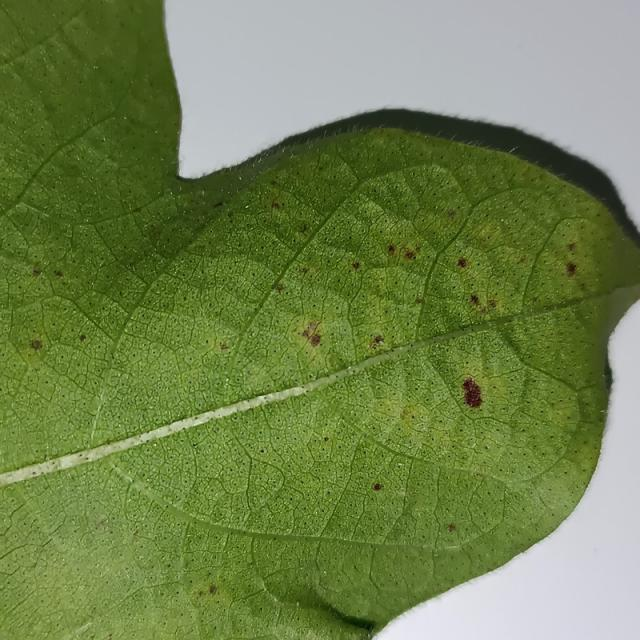Bacterial_Blight: (11, 274, 120, 378), (514, 303, 600, 388), (259, 177, 335, 247), (523, 376, 586, 451), (343, 464, 408, 533), (354, 295, 410, 355), (478, 244, 538, 293), (458, 474, 504, 531), (376, 394, 431, 438), (379, 233, 426, 269), (292, 318, 328, 355), (450, 376, 487, 410), (244, 482, 277, 516), (200, 329, 236, 358), (475, 222, 503, 249), (468, 291, 499, 315), (24, 331, 47, 359), (195, 582, 218, 598), (31, 263, 45, 277), (565, 262, 578, 275), (149, 226, 163, 238), (272, 283, 284, 293), (457, 258, 468, 268), (469, 294, 479, 305), (566, 242, 577, 252), (271, 198, 280, 210), (193, 244, 206, 252), (372, 482, 383, 491), (53, 270, 64, 278), (387, 245, 396, 254), (302, 330, 311, 339), (579, 282, 588, 291), (447, 209, 456, 218), (378, 127, 387, 136), (518, 256, 527, 264), (448, 523, 456, 532), (197, 589, 206, 597), (415, 297, 424, 304), (214, 201, 223, 208), (270, 180, 277, 186)
Cotton: (0, 0, 639, 639)
